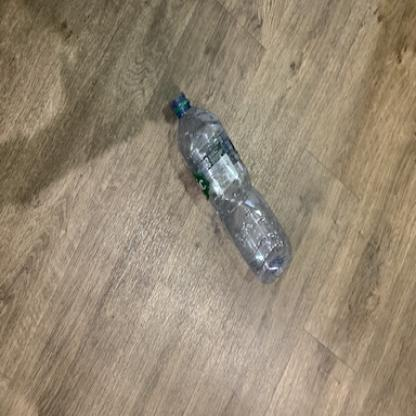trash: (166, 90, 294, 290)
